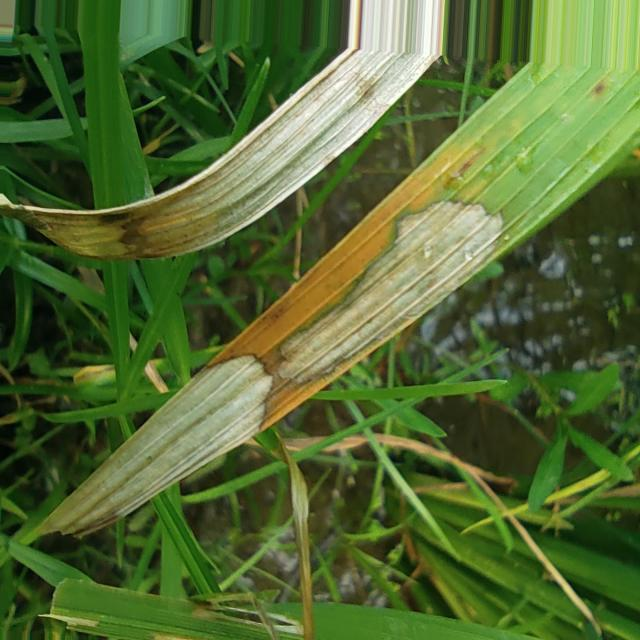Brown_Spot: (594, 75, 608, 95)
Rice False Smut: (0, 50, 432, 260), (44, 355, 272, 533), (295, 202, 501, 360)
